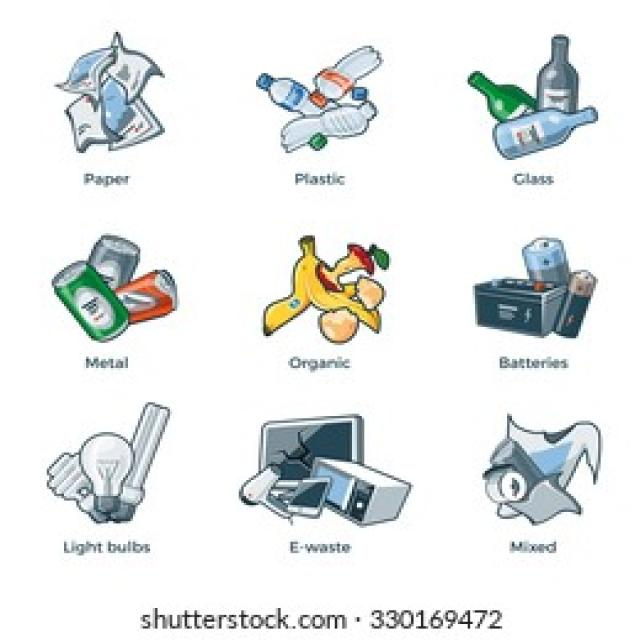metal: (54, 245, 185, 352)
paper: (62, 39, 182, 151)
